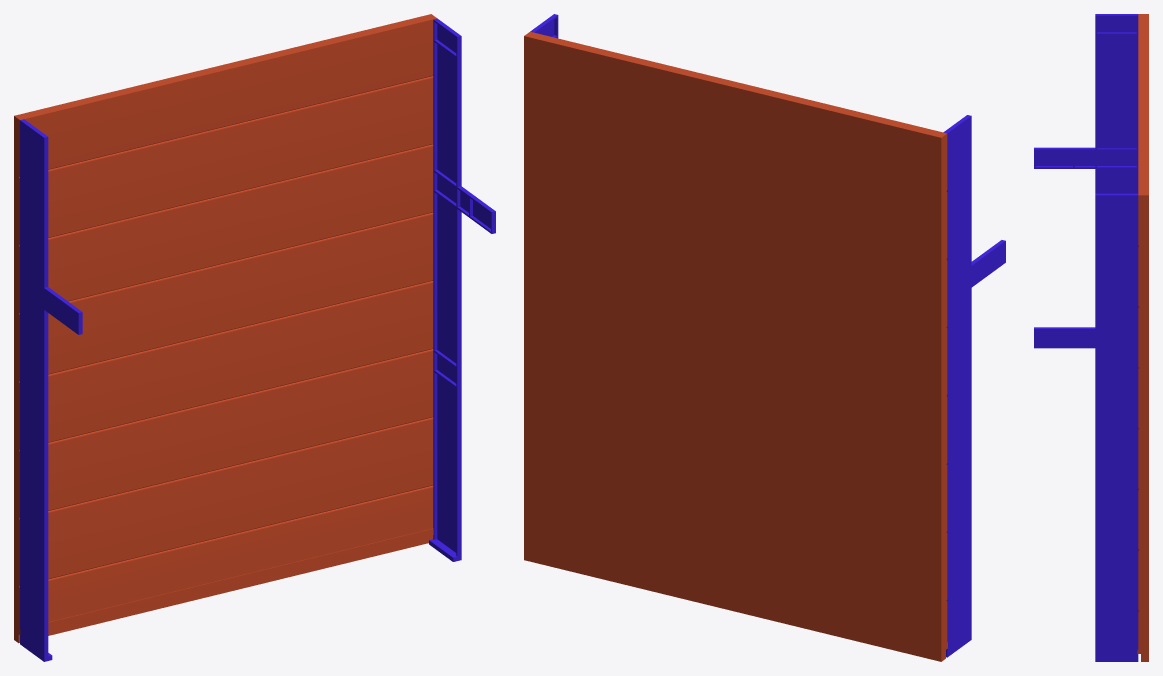
Rendered from Wall_D.glb.
The picture shows the model from 3 angles, left to right: view 1: azimuth 30°, elevation 25°; view 2: azimuth 150°, elevation 25°; view 3: azimuth 270°, elevation 25°; orthographic projection. The views are drawn at different scales.
Parts seen in each view (by area): view 1: Wall_D; view 2: Wall_D; view 3: Wall_D.
Part boxes in pixels (x1,y1,x2,y2): Wall_D: (14, 14, 495, 661); Wall_D: (524, 14, 1005, 661); Wall_D: (1034, 14, 1148, 661).
Size of the model in its own units: 10 by 12 by 2.68.
